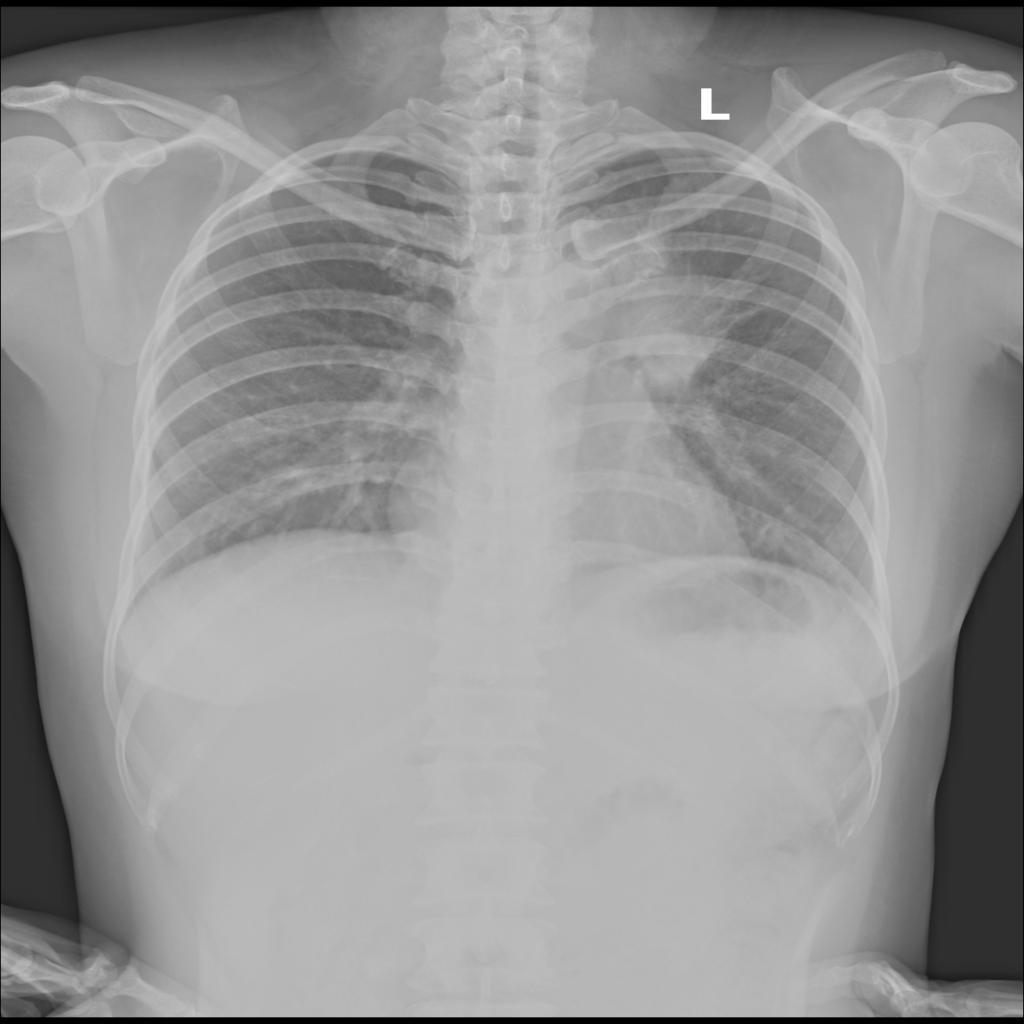Nodule: (592, 215, 736, 385)
